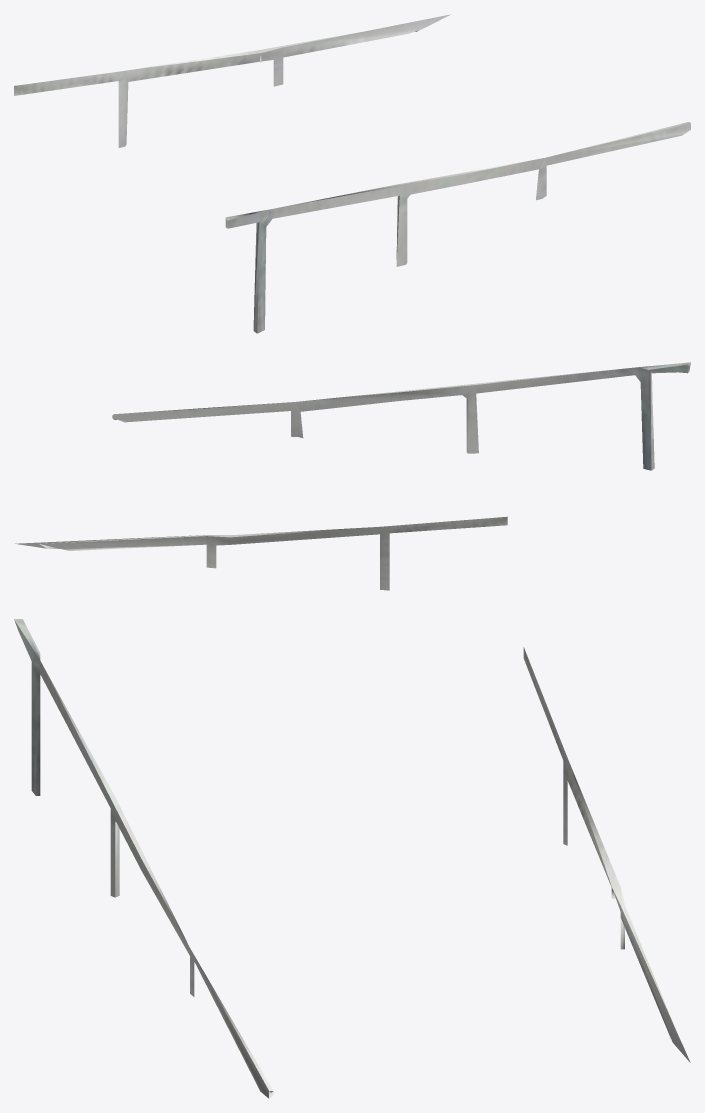
3 renders of one model, top to bottom at view 1: azimuth 30°, elevation 25°; view 2: azimuth 150°, elevation 25°; view 3: azimuth 270°, elevation 25°, orthographic. The views are drawn at different scales.
Visible parts, largest first — view 1: 30436272704370436443_0; view 2: 30436272704370436443_0; view 3: 30436272704370436443_0.
Boxes of the visible parts, box(x1,y1,x2,y2) form: 30436272704370436443_0: box(14, 14, 690, 333); 30436272704370436443_0: box(15, 362, 690, 590); 30436272704370436443_0: box(14, 619, 690, 1098).
Bounding box in the file's own units: 27.31 × 5.85 × 23.76.
Materials: 1 (1 with a texture image).
